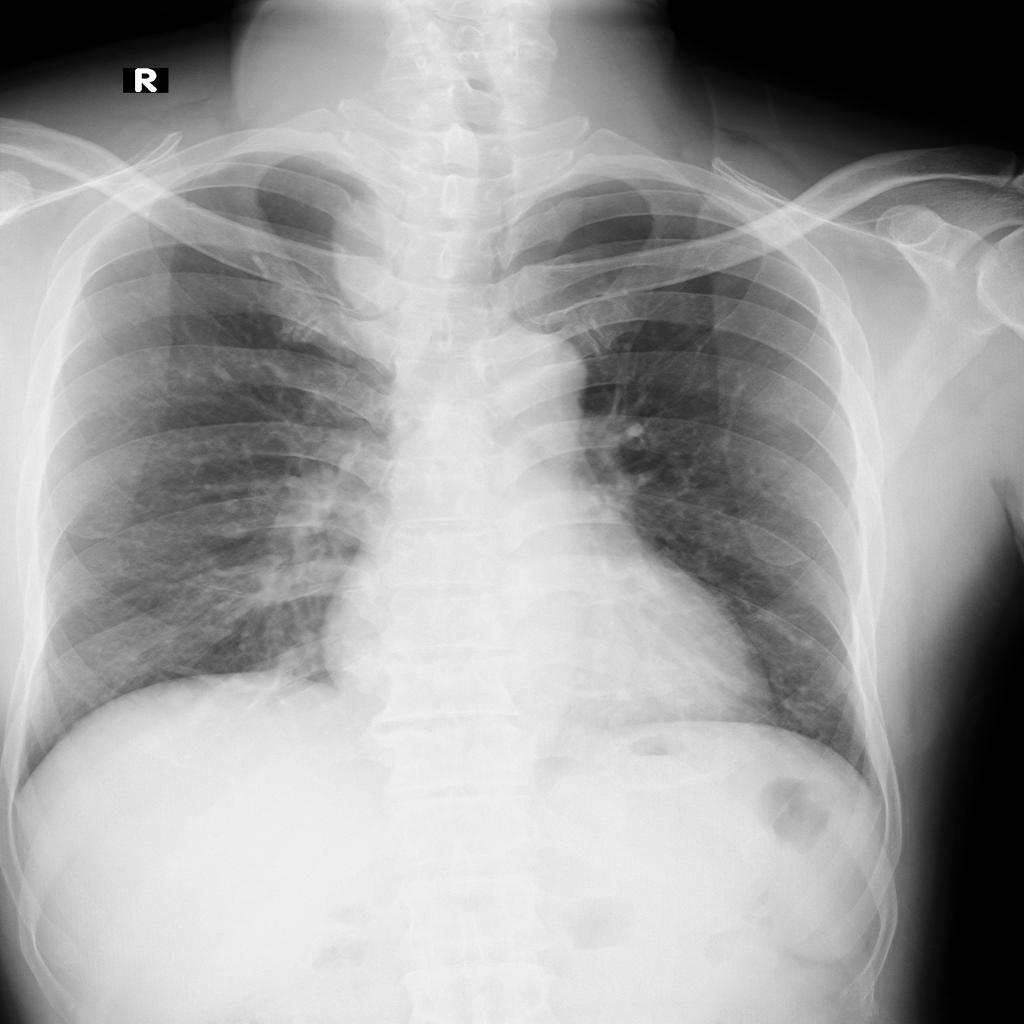Nodule: (331, 195, 429, 321)
